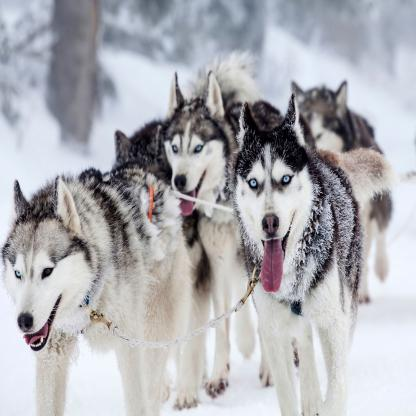dog: (231, 99, 392, 416), (1, 165, 192, 415), (111, 58, 250, 398), (154, 71, 287, 396), (277, 72, 390, 308)
